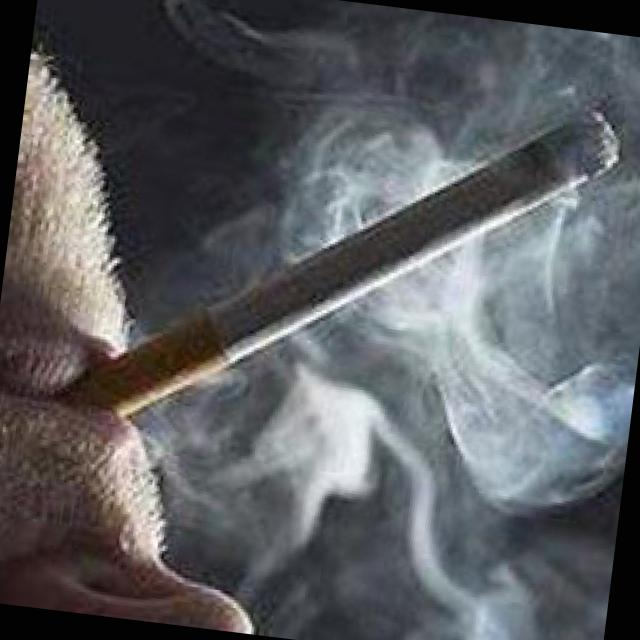cigarette: (115, 51, 620, 468)
